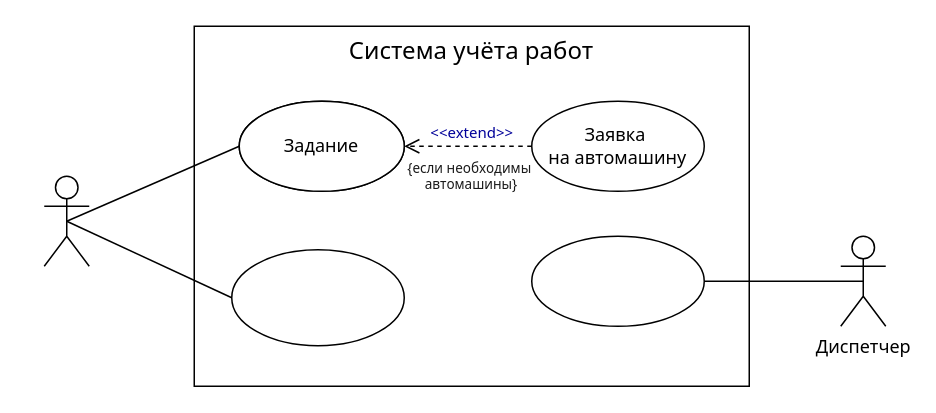
The diagram is 936 pixels wide and 413 high, and some of its shapes have lost their labels. Each missing label, with the centre of its shape:
Ведущий инженер: (x=66, y=220)
Отчёт о работах за период: (x=317, y=297)
Список заявок на автомашины: (x=617, y=280)
